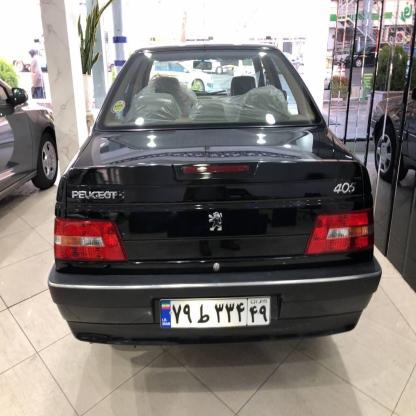Car: (57, 29, 371, 347), (0, 50, 72, 229), (367, 68, 416, 182)
